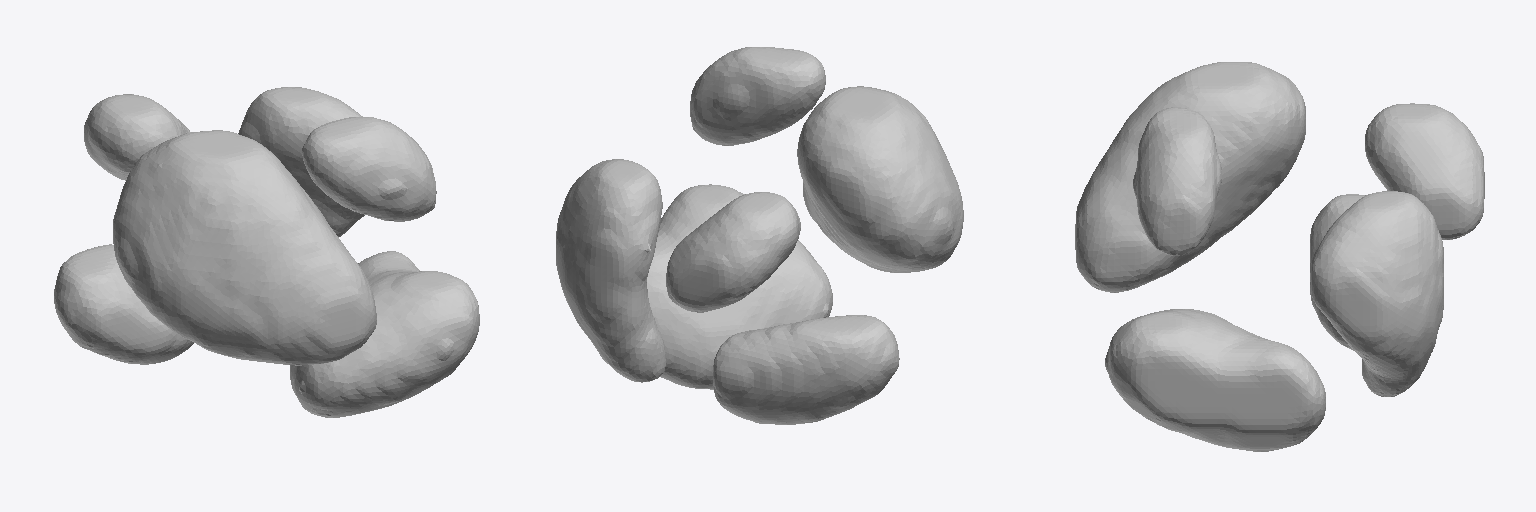
Rendered from iso-crop-mosaic_4.obj.
The picture shows the model from 3 angles: view 1: azimuth 30°, elevation 25°; view 2: azimuth 150°, elevation 25°; view 3: azimuth 270°, elevation 25°; orthographic projection.
Parts seen in each view (by area): view 1: 1, 2, 3, 4, 6, 5; view 2: 1, 6, 4, 2, 5, 3; view 3: 1, 2, 6, 5, 3, 4.
Part boxes in pixels (left/top/right/bottom): 1: left=113, top=130, right=376, bottom=365; 2: left=290, top=251, right=479, bottom=417; 3: left=302, top=117, right=436, bottom=221; 4: left=54, top=244, right=193, bottom=364; 6: left=238, top=87, right=364, bottom=236; 5: left=84, top=94, right=190, bottom=180; 1: left=797, top=86, right=963, bottom=272; 6: left=556, top=159, right=665, bottom=382; 4: left=713, top=315, right=899, bottom=424; 2: left=647, top=184, right=832, bottom=389; 5: left=666, top=192, right=800, bottom=312; 3: left=690, top=47, right=825, bottom=145; 1: left=1075, top=62, right=1305, bottom=292; 2: left=1105, top=309, right=1325, bottom=451; 6: left=1310, top=191, right=1443, bottom=396; 5: left=1365, top=103, right=1484, bottom=239; 3: left=1133, top=107, right=1221, bottom=255; 4: left=1310, top=194, right=1364, bottom=350.
Bounding box in the file's own units: 53.48 × 49.29 × 58.84.